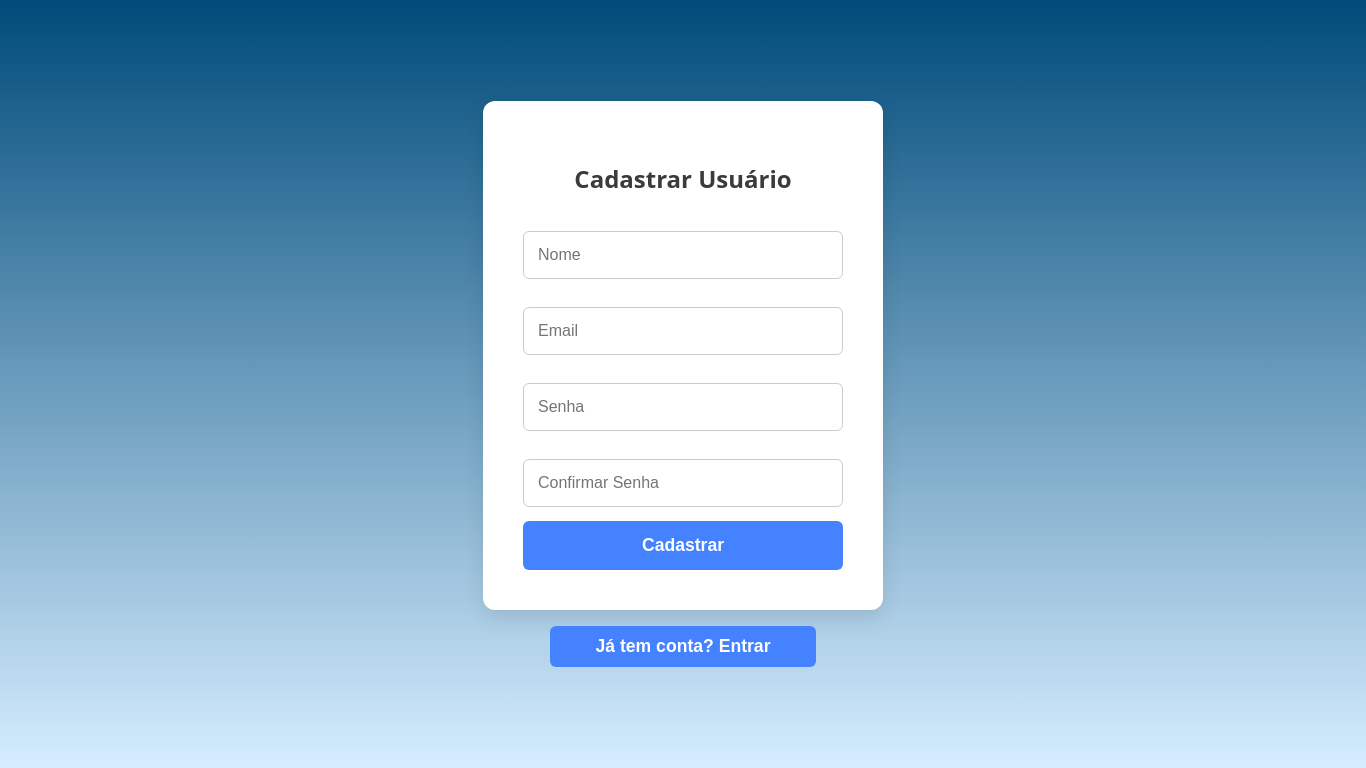
Test: SignupPage Component › validates short password
Type "John Doe" into the field with placeholder "Nome". click: (683,255)
box: [523,231,843,279]
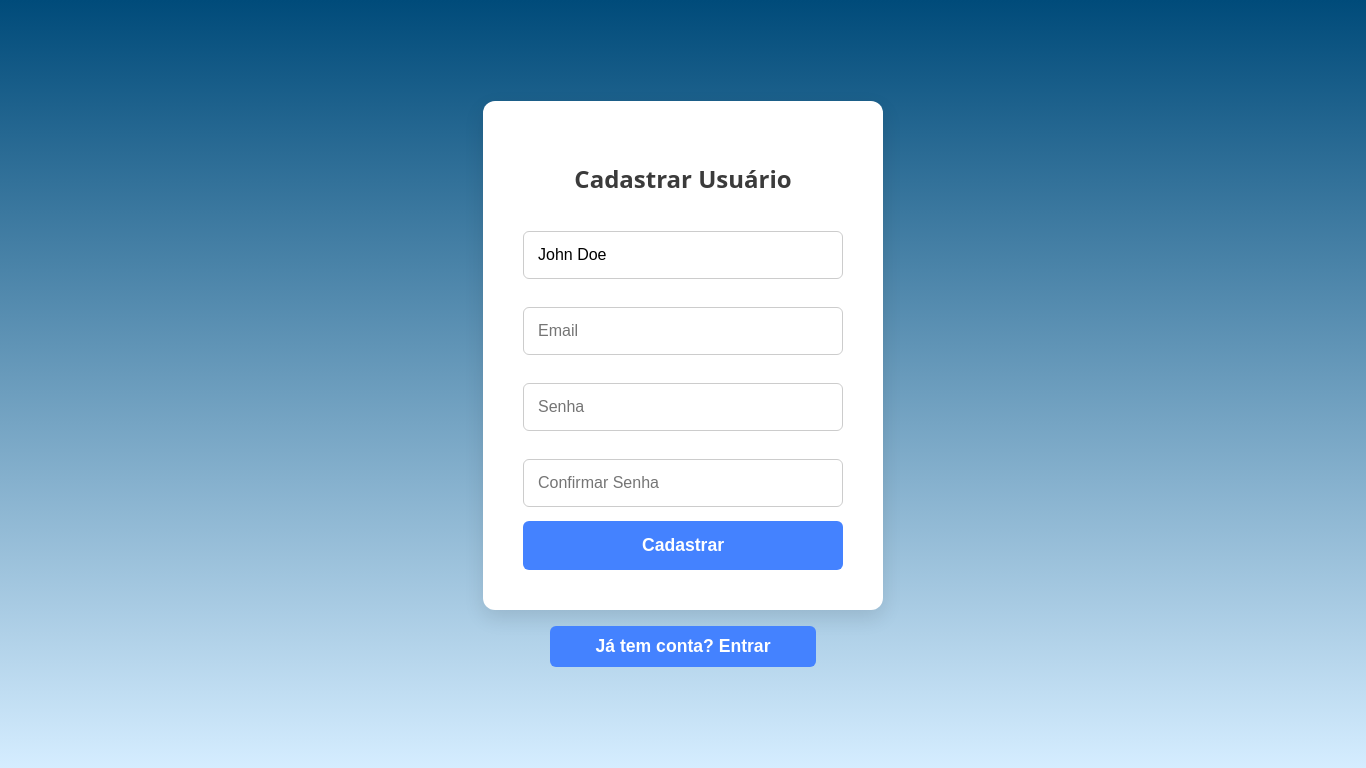
Type "test@example.com" into the field with placeholder "Email". click: (683,331)
box: [523,307,843,355]
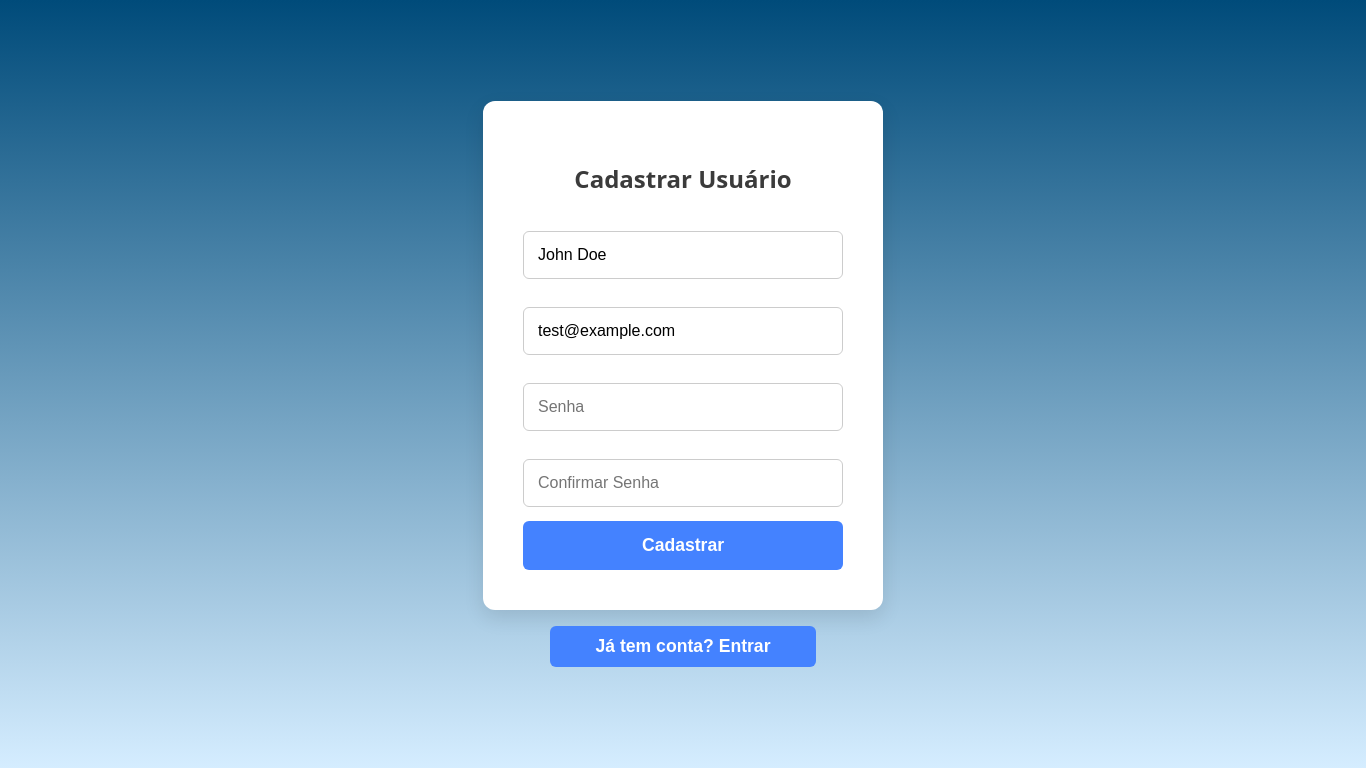
Type "12345" into the password field with placeholder "Senha". click: (683,407)
box: [523,383,843,431]
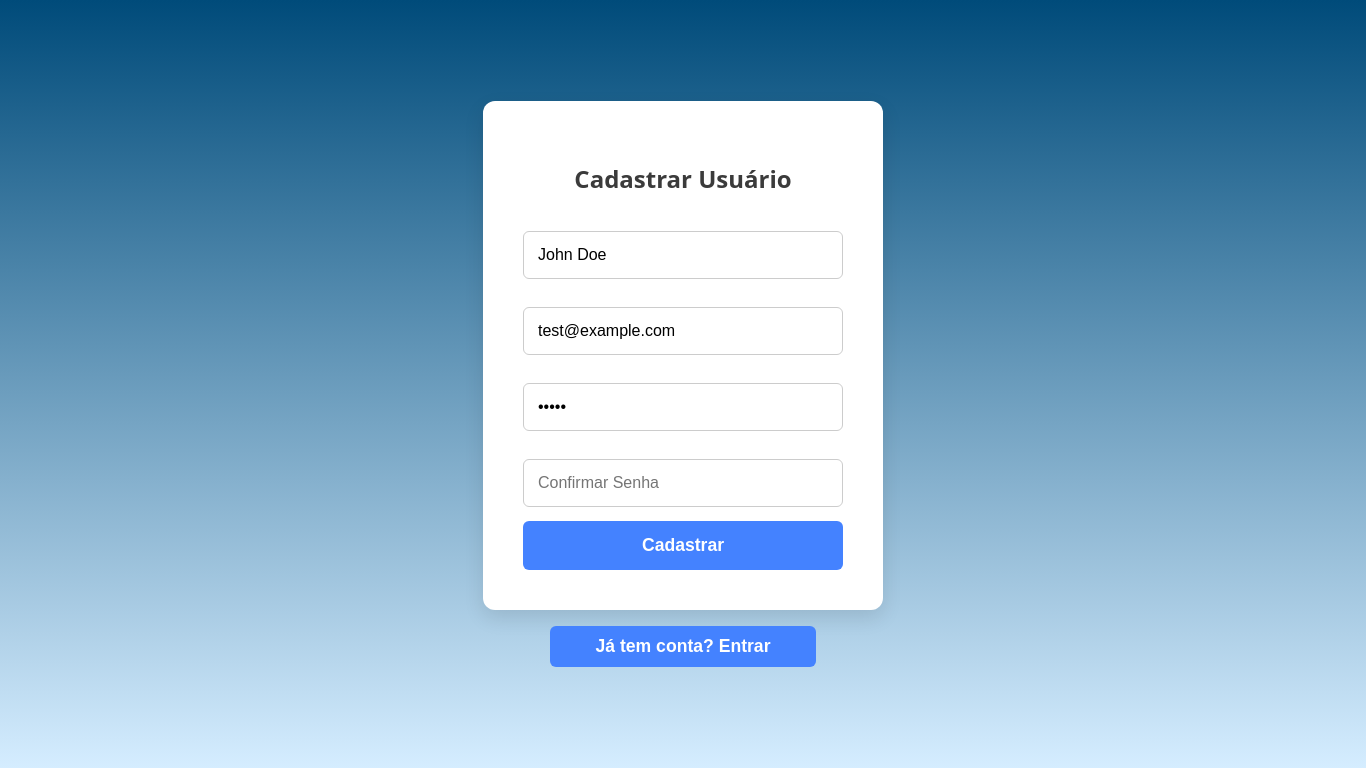
Submit the form, box [483,101,883,610]
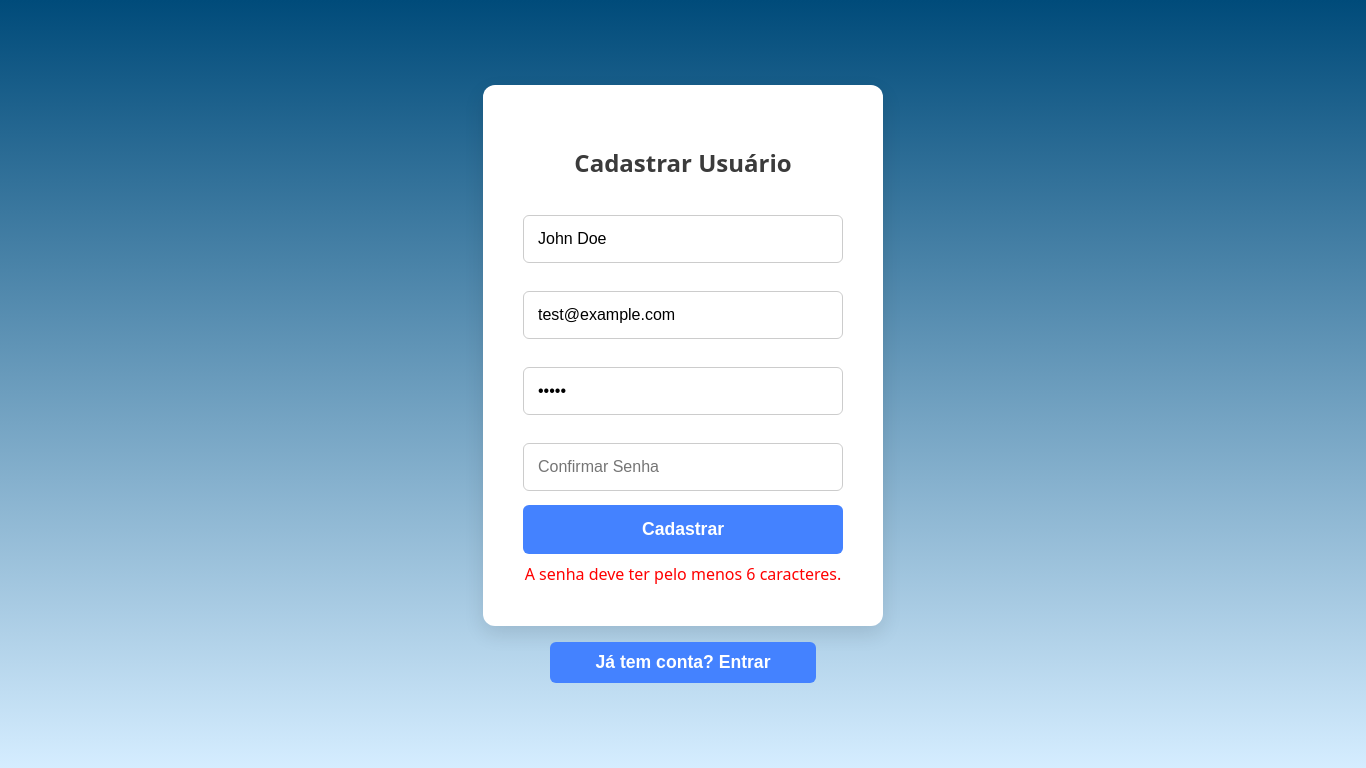
Expected: the text "A senha deve ter pelo menos 6 caracteres." is shown, [523,562,843,586]
